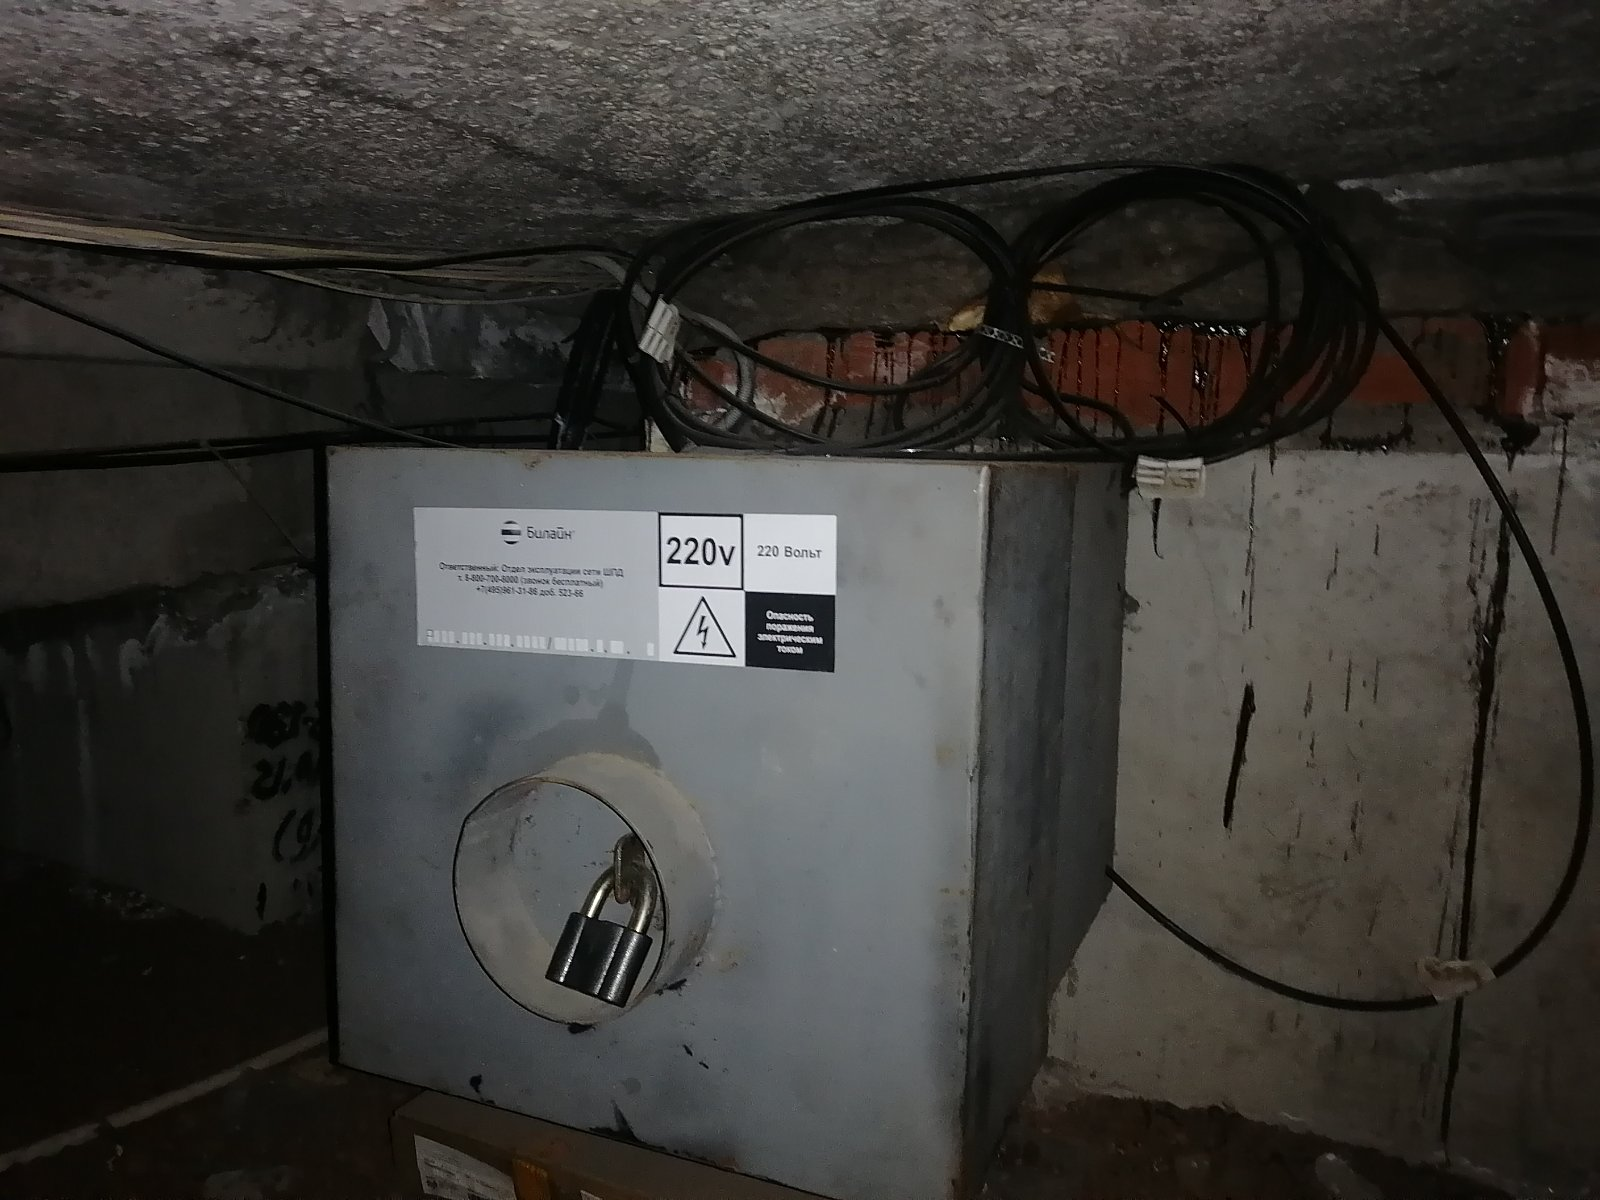shta-9: (307, 420, 1145, 1196)
